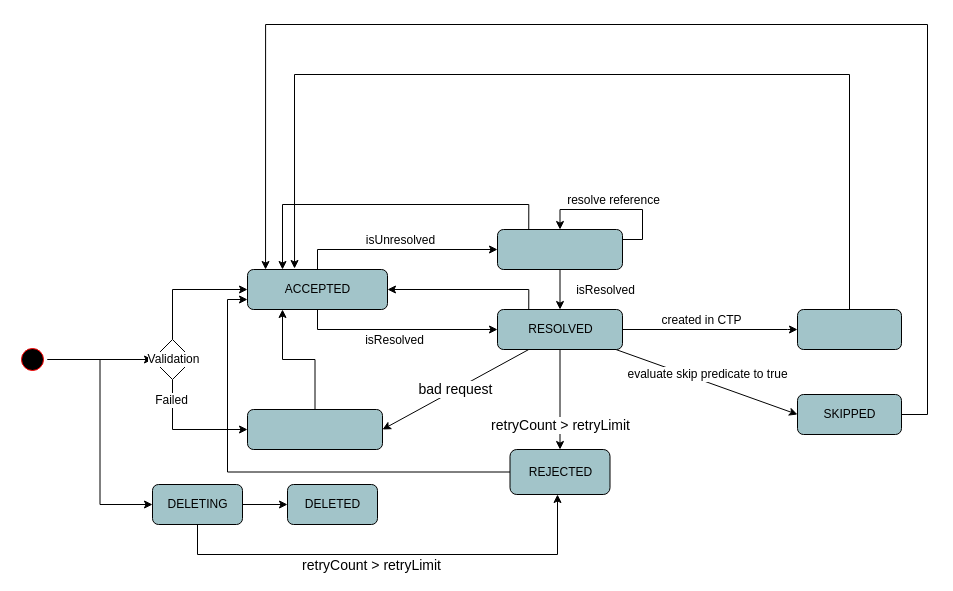
This 953x591 diagram has some shape labels left out. The shapes that lost their labels are listed below. From the top down, each one's centre as x and y in pixels, then its label:
(x=559, y=249): UNRESOLVED
(x=849, y=329): IMPORTED
(x=314, y=429): VALIDATION_FAILED
